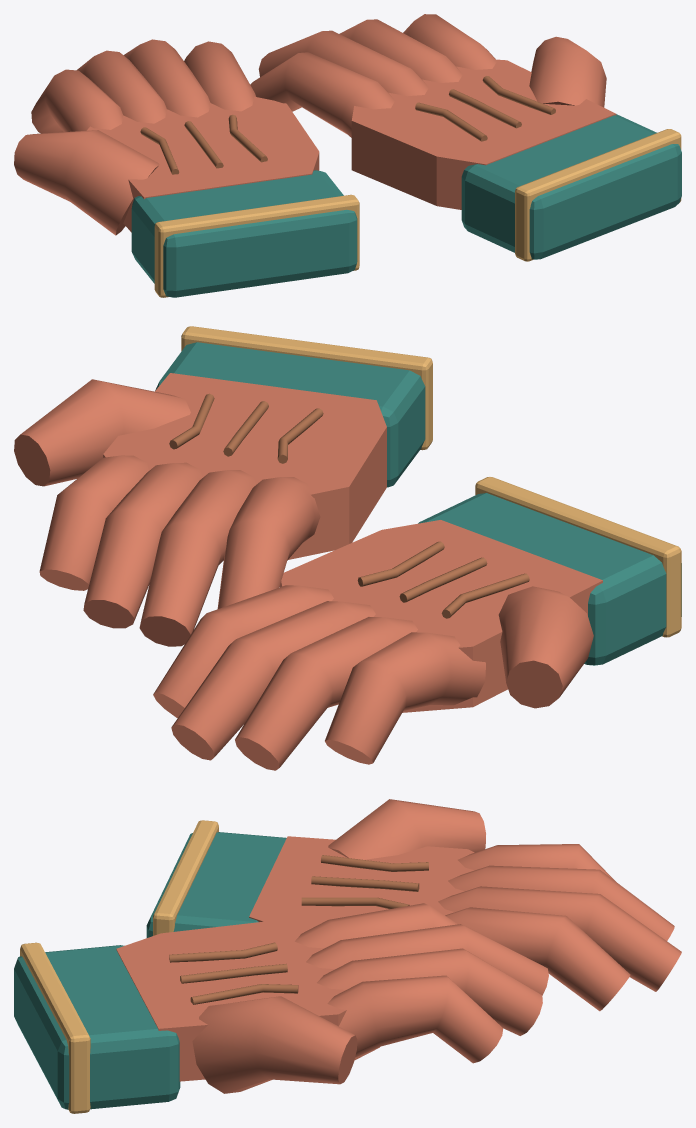
3 renders of one model, top to bottom at view 1: azimuth 30°, elevation 25°; view 2: azimuth 150°, elevation 25°; view 3: azimuth 270°, elevation 25°, orthographic. The views are drawn at different scales.
Parts seen in each view (by area): view 1: PR130 enamel and hardware; view 2: PR130 enamel and hardware; view 3: PR130 enamel and hardware.
Part boxes in pixels (x1,y1,x2,y2): PR130 enamel and hardware: (14, 14, 681, 297); PR130 enamel and hardware: (14, 326, 681, 770); PR130 enamel and hardware: (14, 799, 681, 1113).
Size of the model in its own units: 0.356 by 0.0824 by 0.37.
